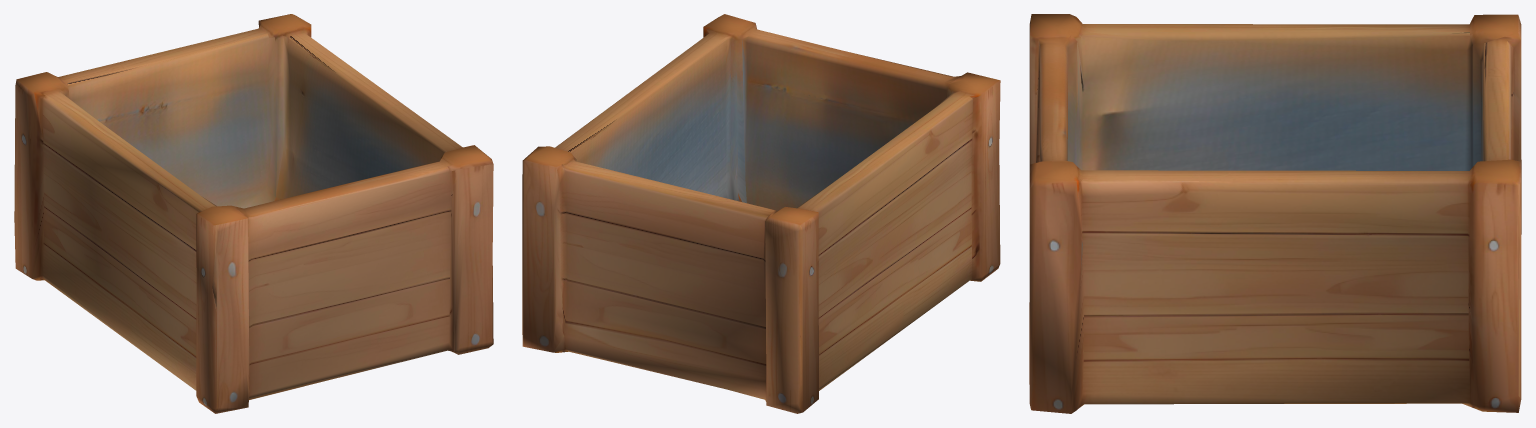
The model's file is Emty Box.fbx.
The picture shows the model from 3 angles, left to right: view 1: azimuth 30°, elevation 25°; view 2: azimuth 150°, elevation 25°; view 3: azimuth 270°, elevation 25°; orthographic projection. The views are drawn at different scales.
Parts seen in each view (by area): view 1: tripo_node_9a0ed4b6; view 2: tripo_node_9a0ed4b6; view 3: tripo_node_9a0ed4b6.
Part boxes in pixels (bbox=[...]): tripo_node_9a0ed4b6: bbox=[14, 14, 493, 413]; tripo_node_9a0ed4b6: bbox=[522, 14, 1000, 413]; tripo_node_9a0ed4b6: bbox=[1029, 14, 1521, 413].
Size of the model in its own units: 80.44 by 52.44 by 99.73.
1 material, 1 textured.
